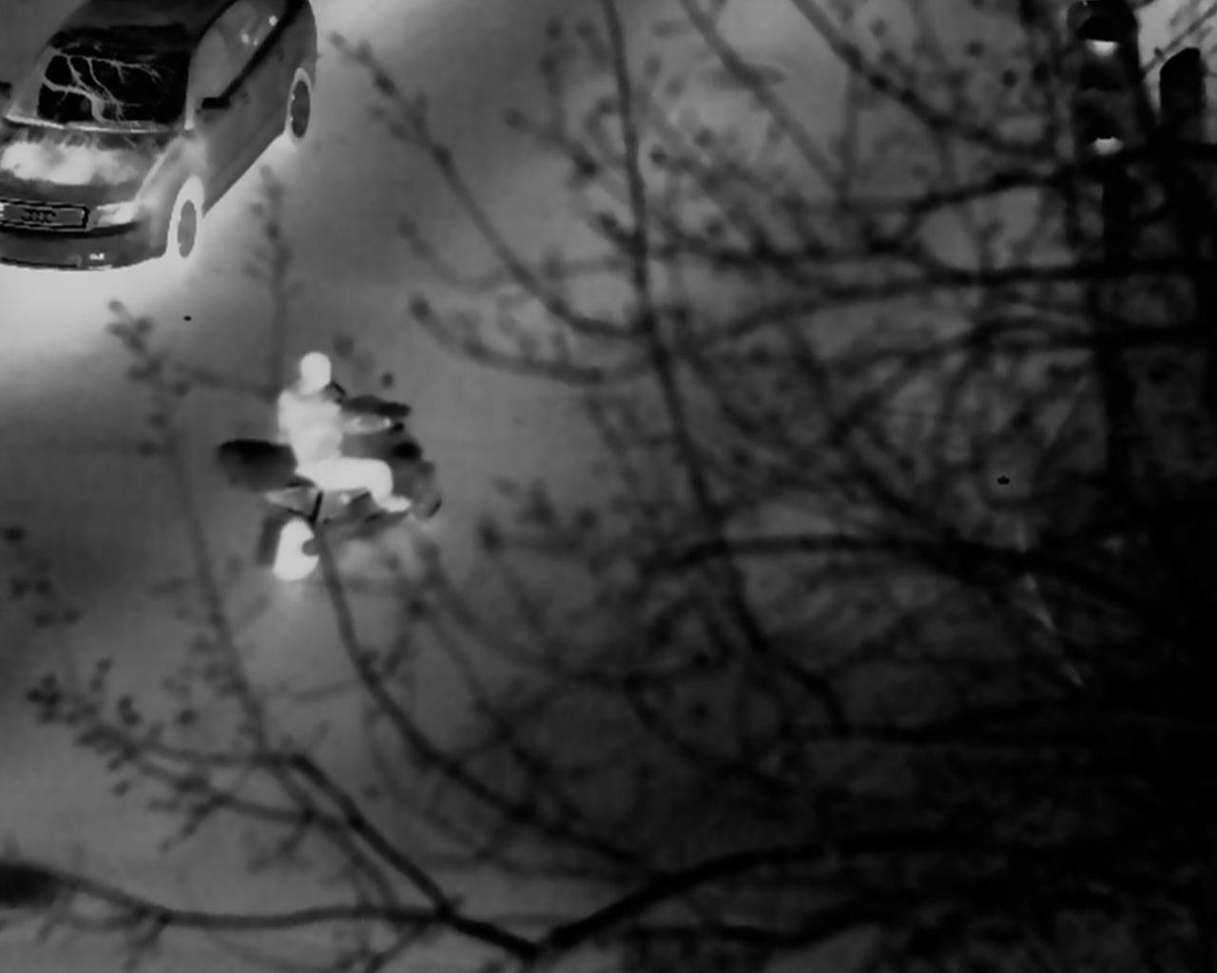person: (268, 341, 396, 545)
